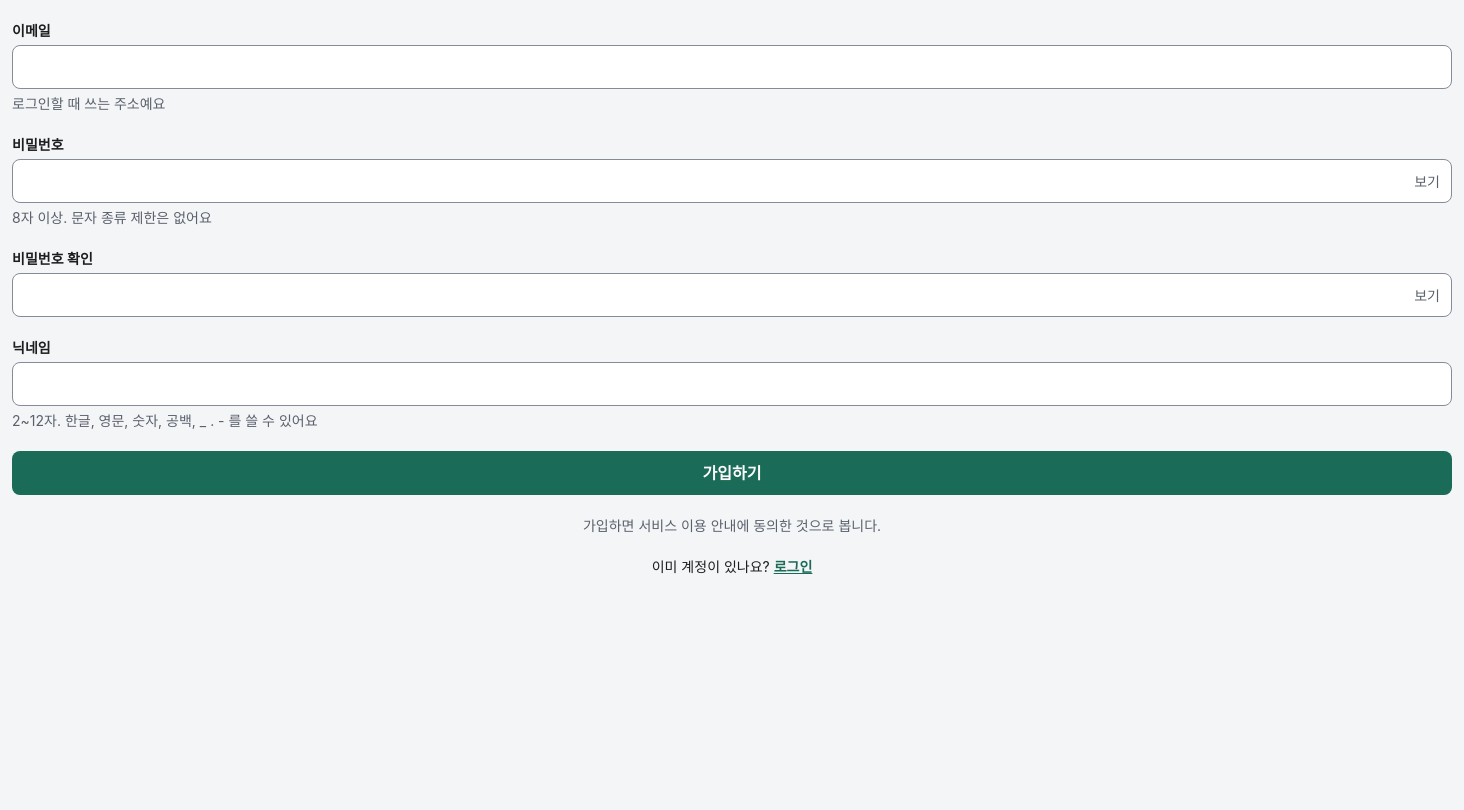
Test: 가입 폼 › [AC-SU-04, 17] 제출하면 틀린 칸 전부와 상단 요약을 보여주고 첫 오류로 포커스하며 서버를 부르지 않는다
Click the button "가입하기" at (732, 473), box [12, 451, 1452, 495]
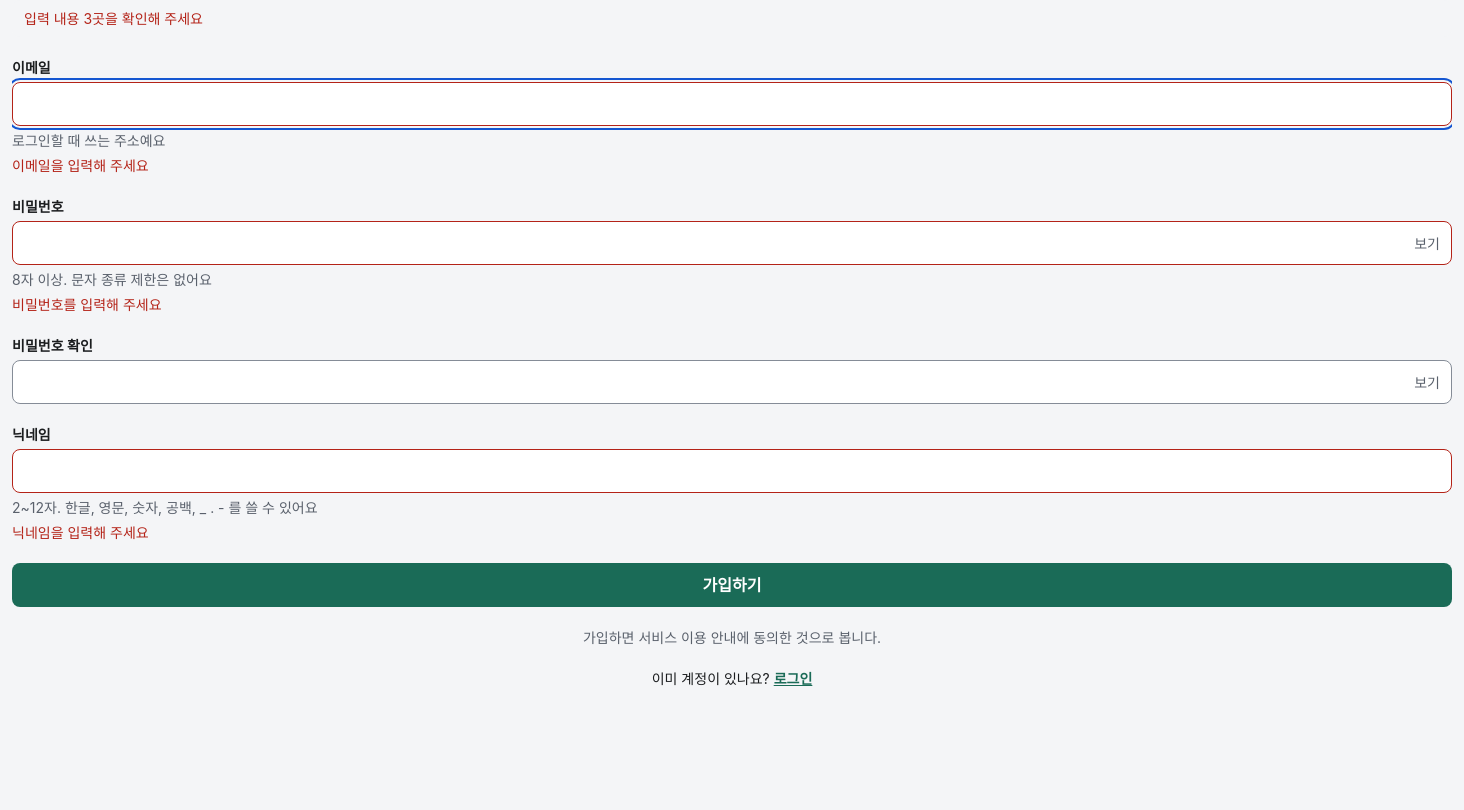
Result: the text "입력 내용 3곳을 확인해 주세요" is shown at [12, 0, 1452, 37]
Result: the text "이메일을 입력해 주세요" is shown at [12, 157, 149, 174]
Result: the text "닉네임을 입력해 주세요" is shown at [12, 524, 149, 541]
